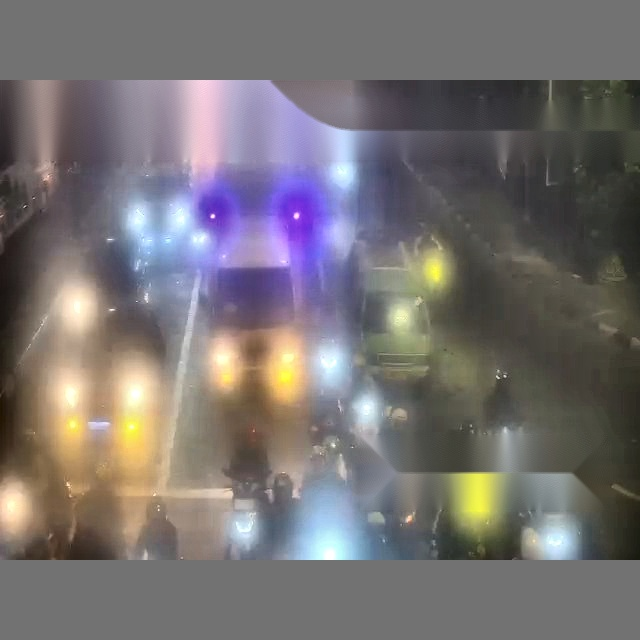Motor: (227, 479, 260, 559), (0, 478, 33, 548)
